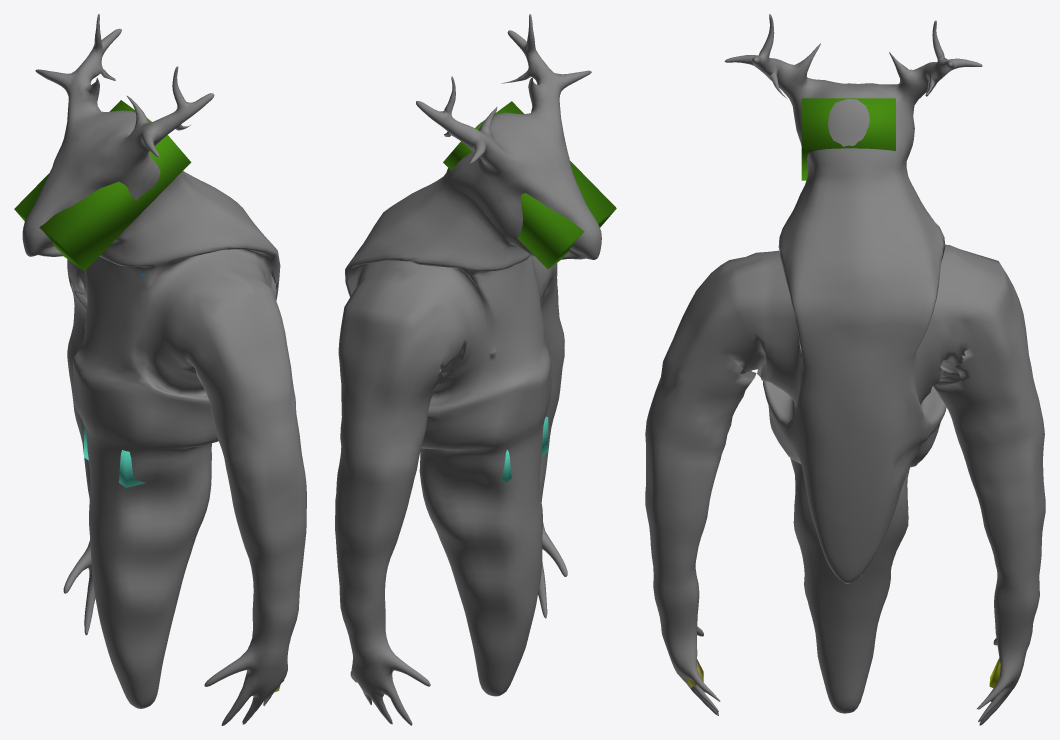
Rendered from SM_monstre_04 1.obj.
3 renders of one model, left to right at view 1: azimuth 30°, elevation 25°; view 2: azimuth 150°, elevation 25°; view 3: azimuth 270°, elevation 25°, orthographic. The views are drawn at different scales.
Visible parts, largest first — view 1: object 1, CATRigHub003, CATRigHub001; view 2: object 1, CATRigHub003, CATRigHub001; view 3: object 1, CATRigHub003.
Part boxes in pixels (x1,y1,x2,y2): object 1: (22,14,306,725); CATRigHub003: (14,100,191,271); CATRigHub001: (84,425,145,487); object 1: (335,14,601,725); CATRigHub003: (443,101,616,268); CATRigHub001: (500,416,548,481); object 1: (645,14,1045,725); CATRigHub003: (801,98,895,180).
Size of the model in its own units: 2.21 by 5.93 by 3.09.
